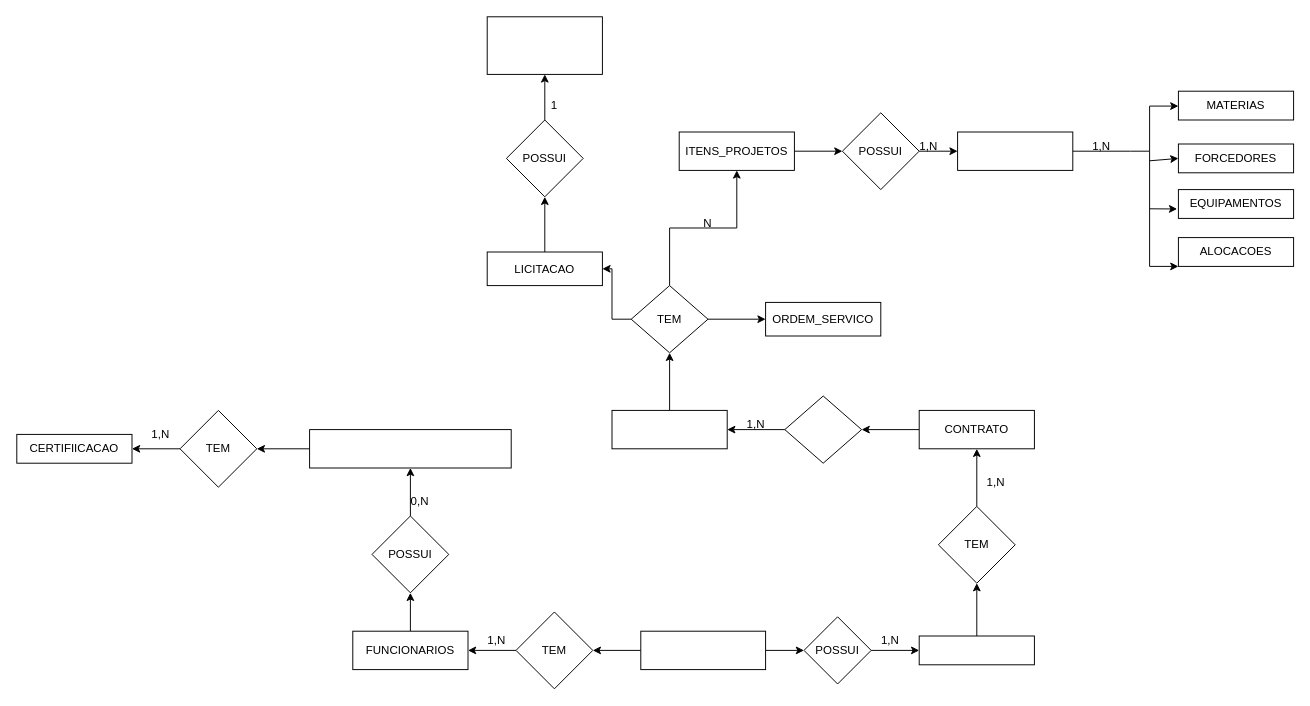
Image size: 1310x706. Some labels were removed from this diagram. Each missing label, with the box of its shape:
CLIENTES: (918, 635, 1034, 665)
COMPRAS: (957, 131, 1073, 170)
EMPRESA_ELETRICA: (640, 630, 766, 670)
FUNCIONARIOS_CERTIFICADOS: (309, 429, 511, 468)
PROJETO: (784, 395, 862, 463)
PROJETOS: (611, 409, 727, 449)
VALOR_LICITACAO: (486, 16, 602, 74)
